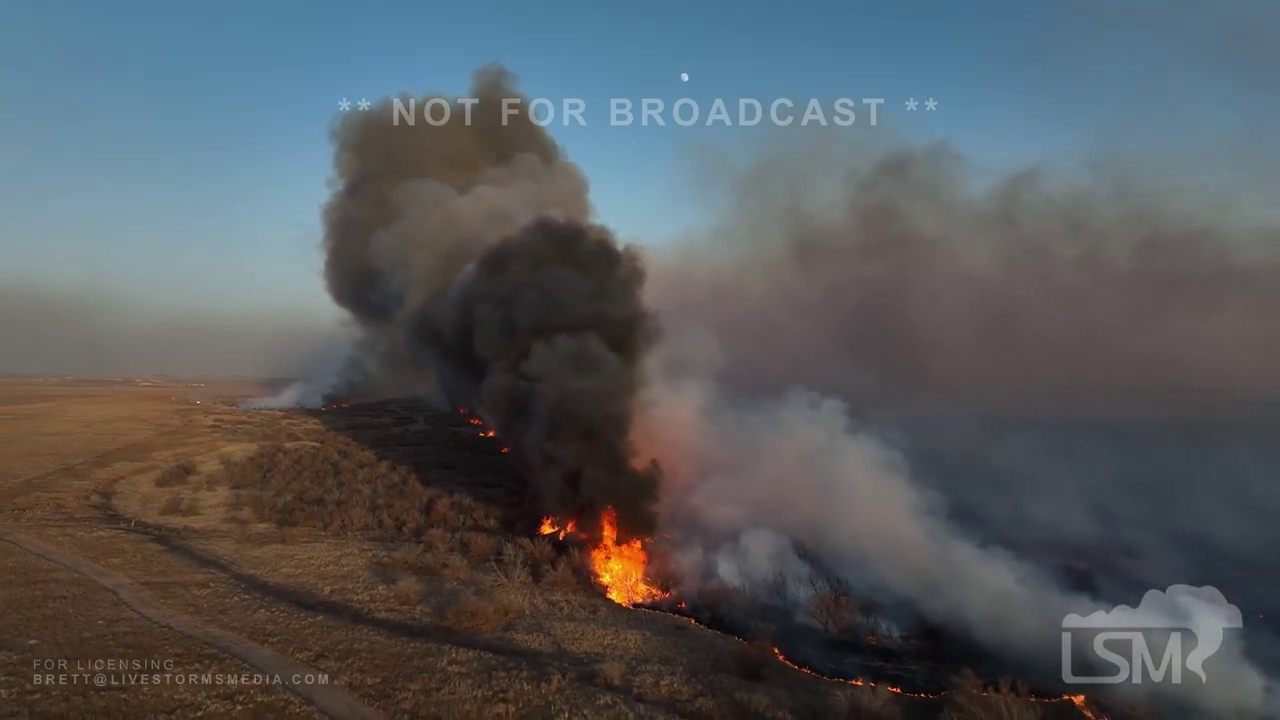forest_fire: (587, 510, 712, 628), (772, 647, 949, 698), (1028, 694, 1109, 719), (538, 516, 585, 540), (467, 416, 496, 436)
